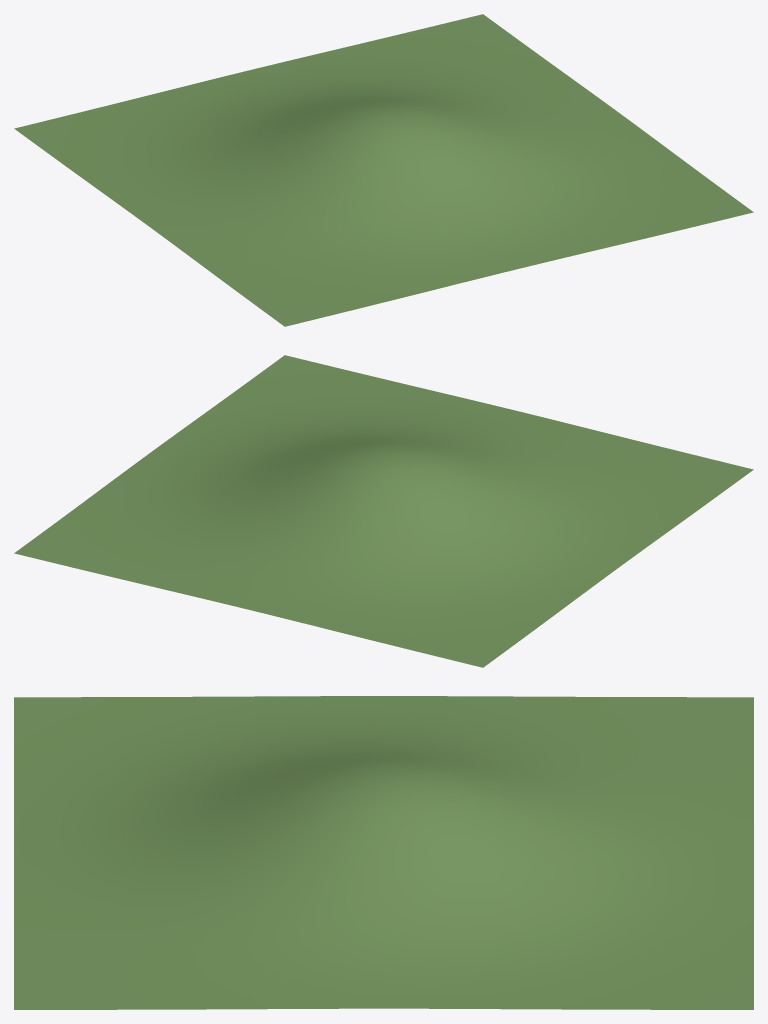
File: example_dem_100m.dae
The picture shows the model from 3 angles, top to bottom: view 1: azimuth 30°, elevation 25°; view 2: azimuth 150°, elevation 25°; view 3: azimuth 270°, elevation 25°; orthographic projection. The views are drawn at different scales.
Visible parts, largest first — view 1: terrain; view 2: terrain; view 3: terrain.
Boxes of the visible parts, x1=… form: terrain: x1=14, y1=14, x2=753, y2=326; terrain: x1=14, y1=355, x2=753, y2=667; terrain: x1=14, y1=696, x2=753, y2=1009.
Bounding box in the file's own units: 100 × 100 × 9.87.
